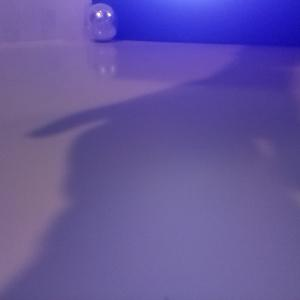alive_ball: (84, 3, 118, 43)
